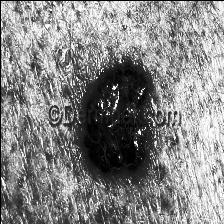Potentially Malignant Skin Tumors: (96, 68, 146, 160)
